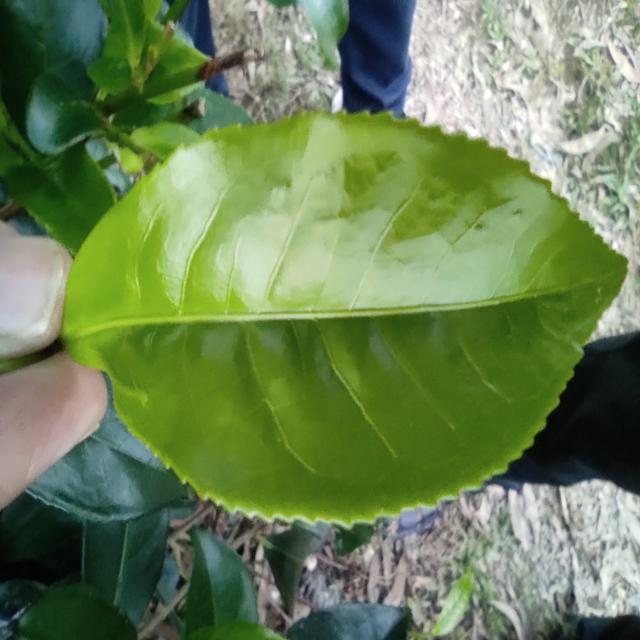Category C 4-7 days: (29, 72, 636, 548)
